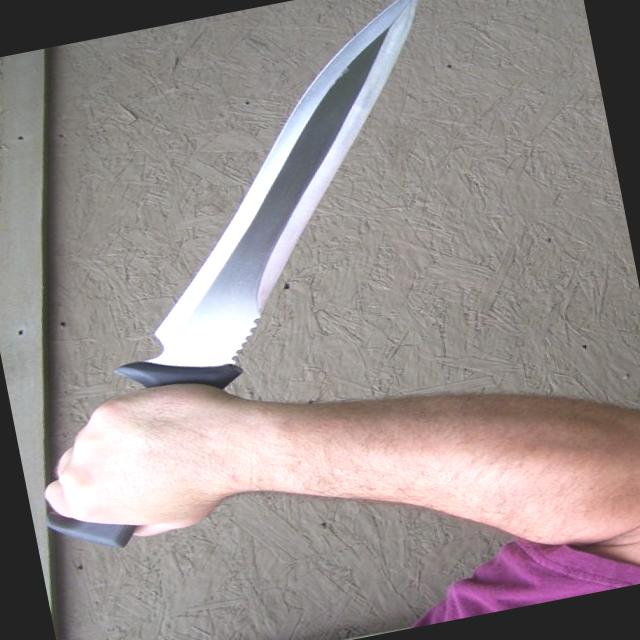knife: (0, 0, 531, 567)
